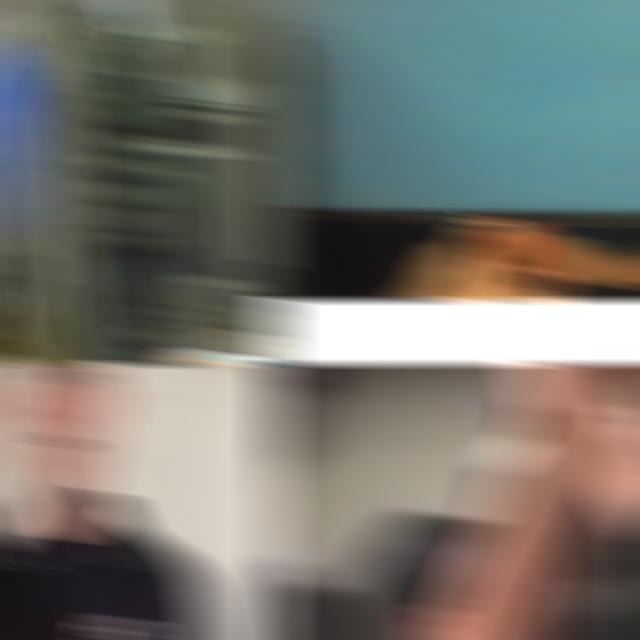Knife: (472, 215, 640, 288)
Knife_Handle: (101, 0, 153, 52)
